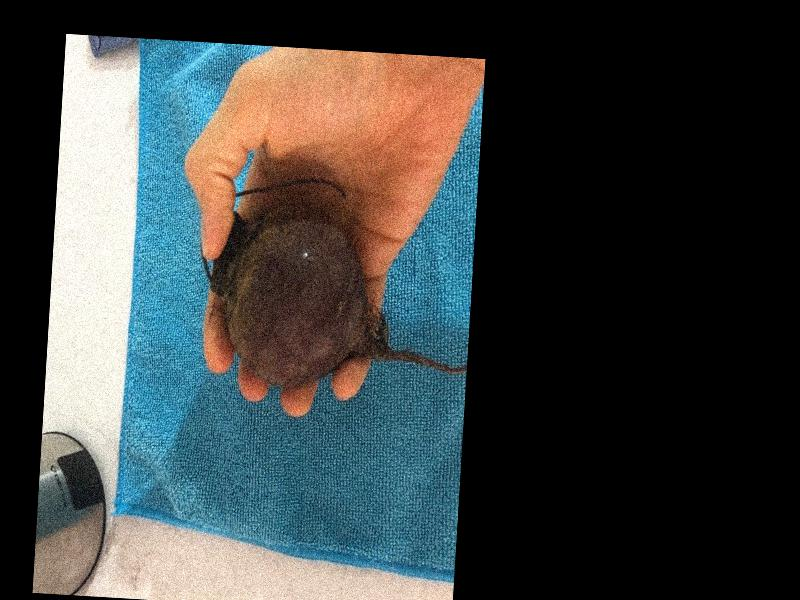Beet: (193, 173, 477, 399)
